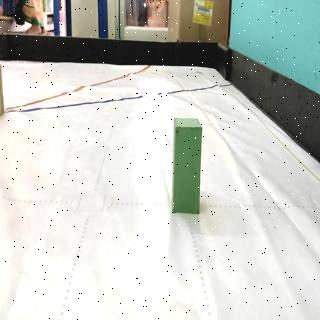greenbox: (172, 116, 203, 213)
